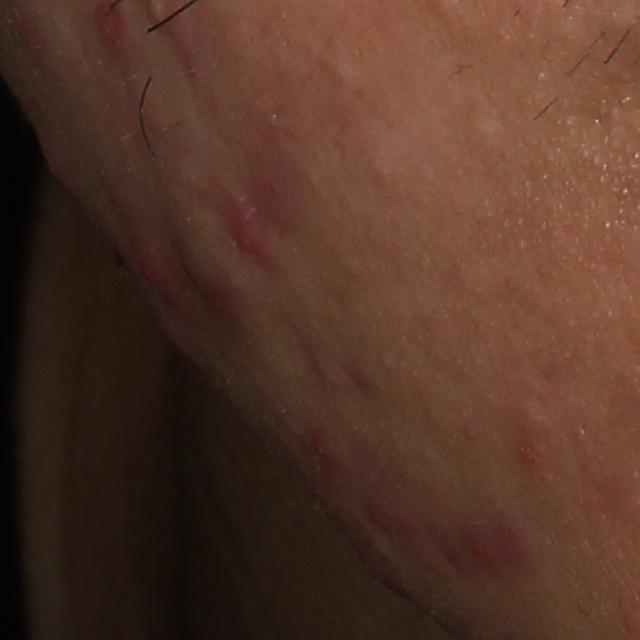comedo: (322, 51, 362, 85)
papule: (130, 246, 185, 316), (227, 199, 268, 258), (460, 518, 502, 573), (519, 439, 545, 466)
